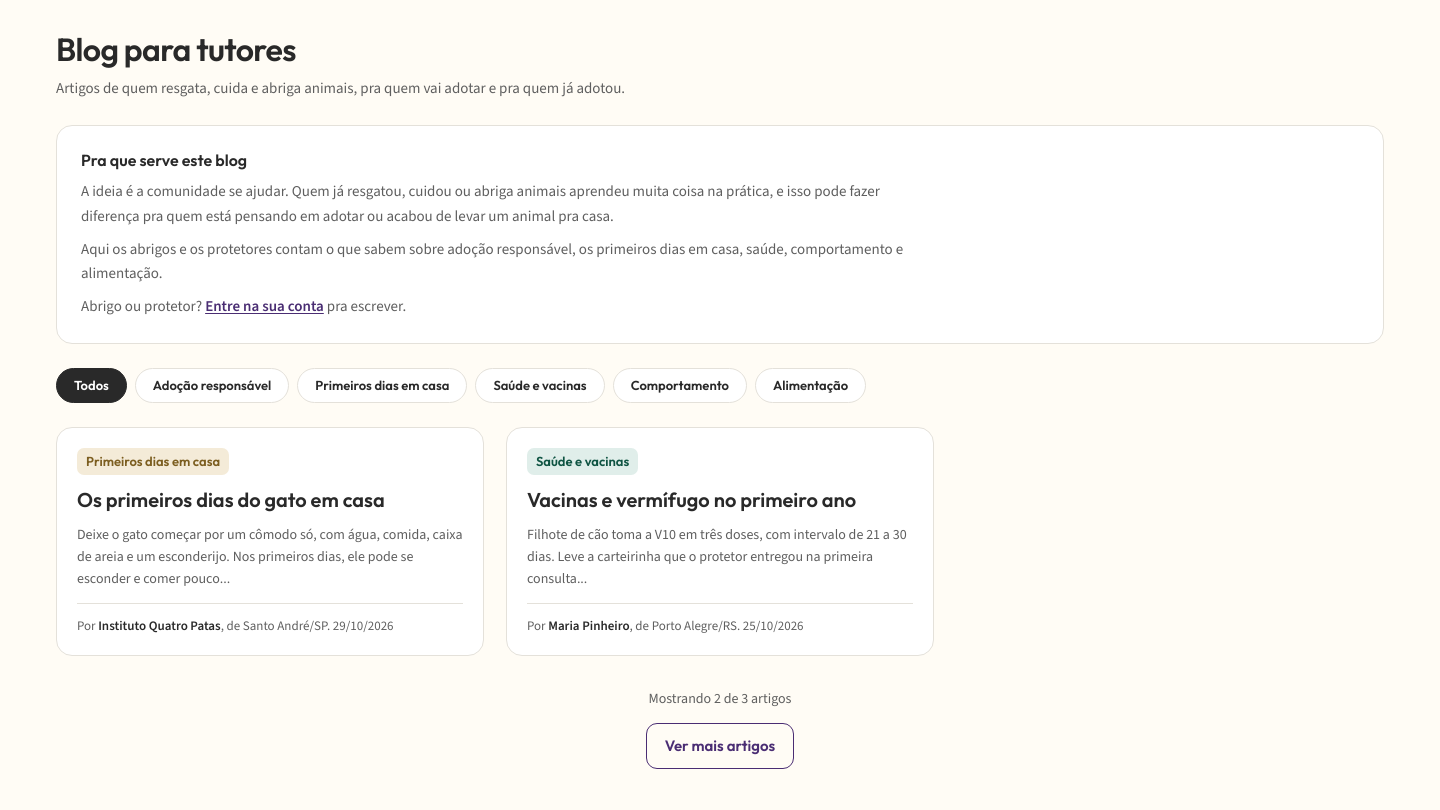
se a próxima página falhar, avisa e mantém o botão
Click the button "Ver mais artigos". click: click(720, 746)
box: [646,723,794,769]
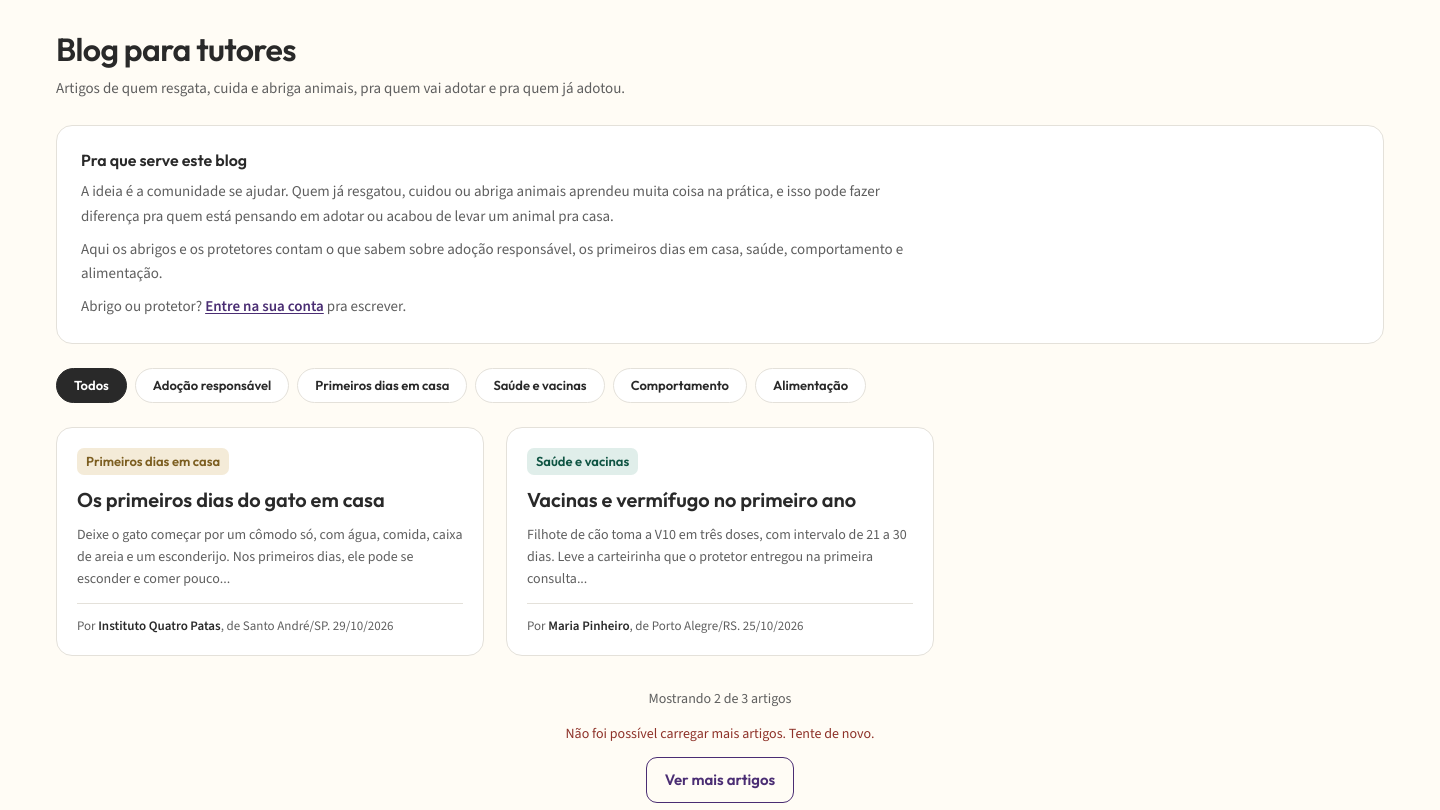
Expected: the button "Ver mais artigos" is enabled, [646,757,794,803]
Result: the message shows "Não foi possível carregar mais artigos." at [566,724,874,743]
